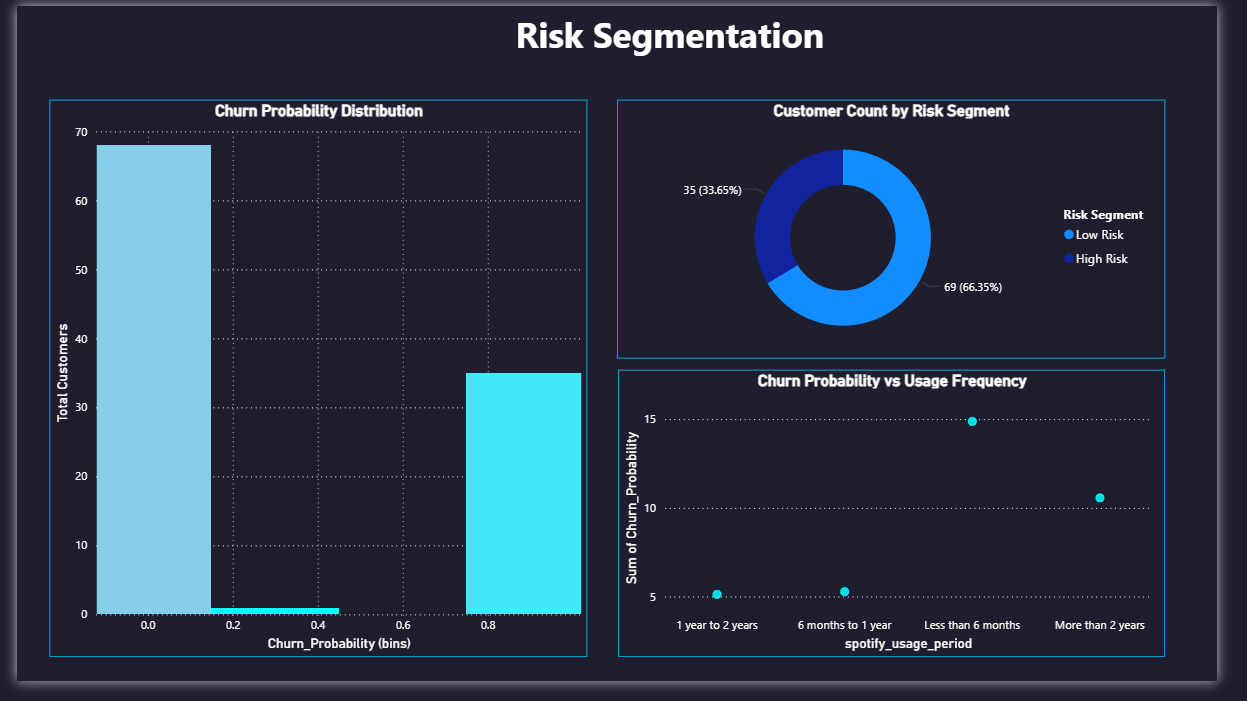

The dashboard page shown, as its layout file describes it:
{"tool":"powerbi","page":{"name":"Risk","canvas":[1280,720],"ordinal":2},"visuals":[{"type":"clusteredColumnChart","title":"Churn Probability Distribution","fields":{"Category":["spotify_churn_predictions.Churn_Probability (bins)"],"Y":["spotify_churn_predictions.Total Customers"]},"box":[34.3,100.2,573.6,594.2],"z":0},{"type":"donutChart","title":"Customer Count by Risk Segment","fields":{"Category":["spotify_churn_predictions.Risk Segment"],"Y":["spotify_churn_predictions.Total Customers"]},"box":[639.5,100.2,584.6,275.8],"z":1000},{"type":"textbox","box":[461.4,0,469.9,69.9],"z":2000},{"type":"scatterChart","title":"Churn Probability vs Usage Frequency","fields":{"X":["spotify_churn_predictions.spotify_usage_period"],"Y":["Sum(spotify_churn_predictions.Churn_Probability)"]},"box":[640.8,388.3,583.2,306],"z":3000}]}

Visuals, with their boxes in screenshot pixels (x1, y1, x2, y2), scaled from the page's 1280x720 canvas onto the 1247x701 screenshot:
"Churn Probability Distribution" clusteredColumnChart: (x1=33, y1=98, x2=592, y2=676)
"Customer Count by Risk Segment" donutChart: (x1=623, y1=98, x2=1193, y2=366)
textbox: (x1=450, y1=0, x2=907, y2=68)
"Churn Probability vs Usage Frequency" scatterChart: (x1=624, y1=378, x2=1192, y2=676)
